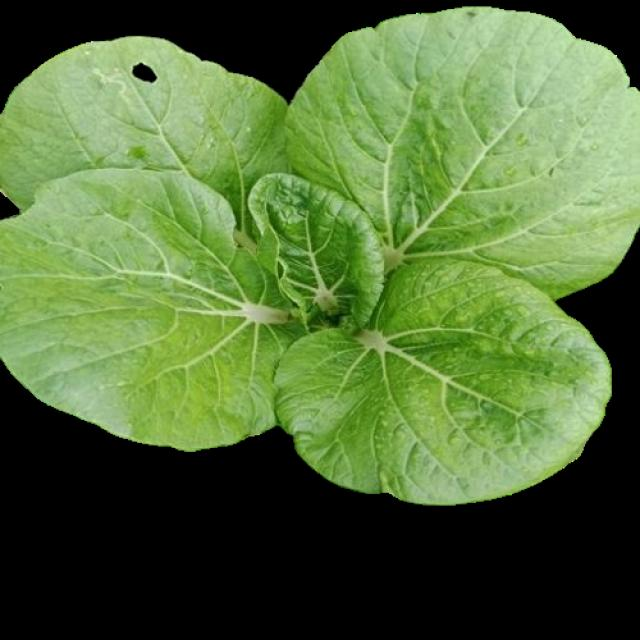mature: (2, 11, 638, 510)
unhealthy: (279, 12, 635, 258), (3, 38, 284, 214)
